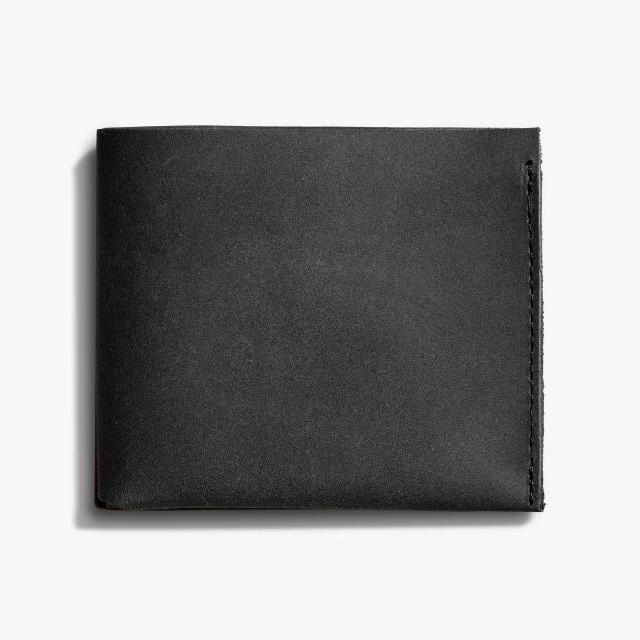wallet: (88, 121, 550, 515)
